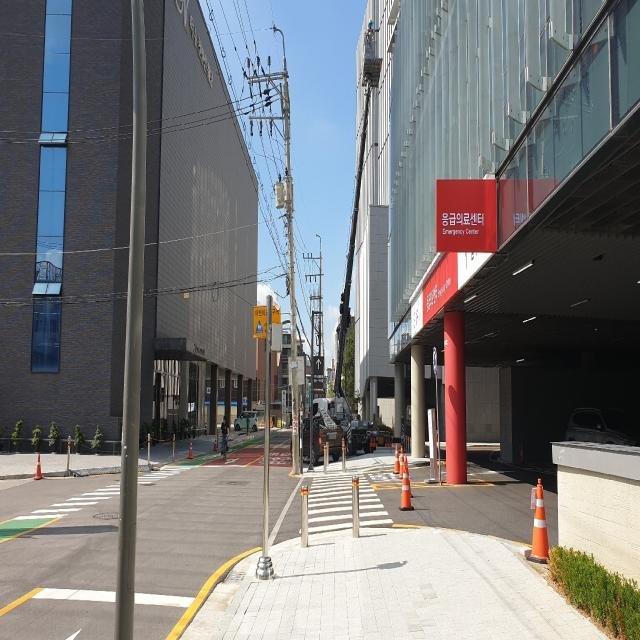횡단보도: (298, 470, 394, 536)
